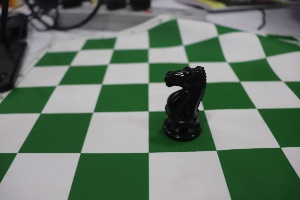black_horse: (151, 52, 210, 145)
